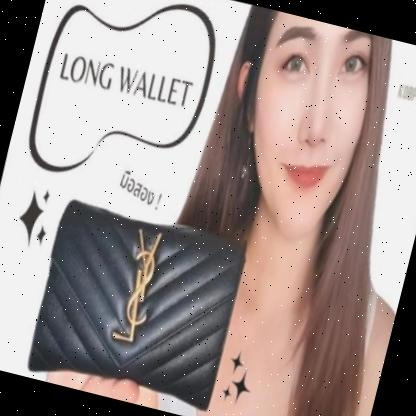bag: (13, 185, 266, 416)
